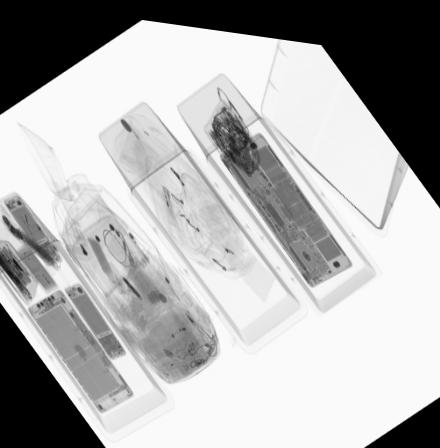Lighter: (162, 179, 176, 221)
